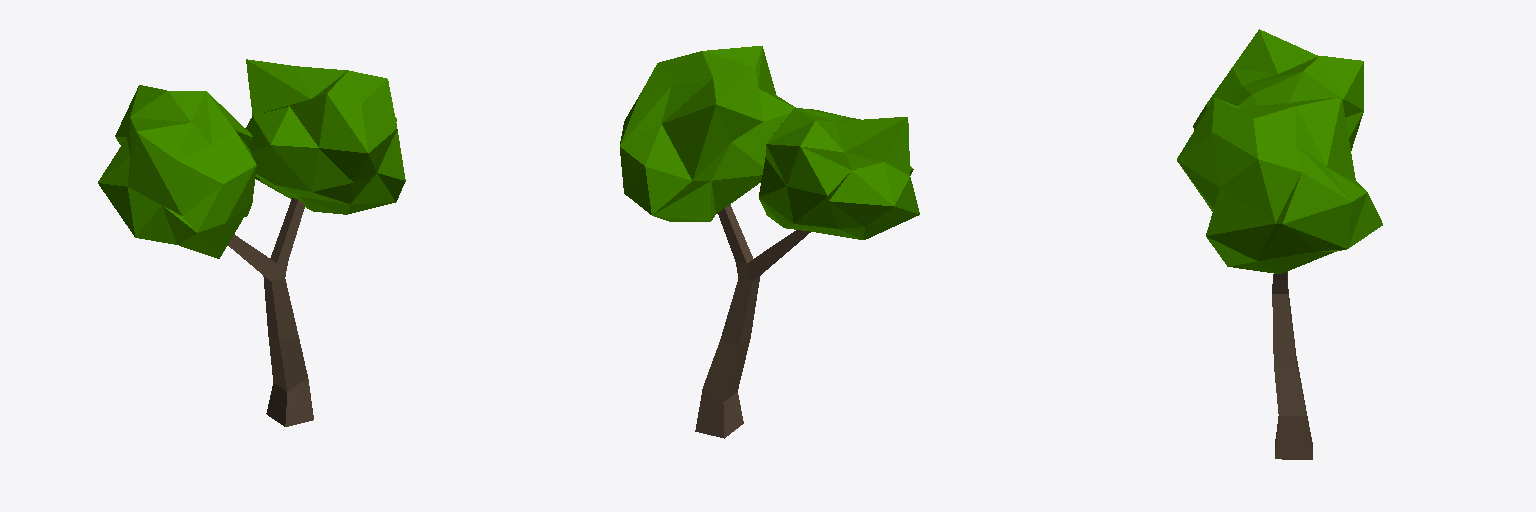
Rendered from Cartoon_low_poly_tree_1.obj.
The picture shows the model from 3 angles: view 1: azimuth 30°, elevation 25°; view 2: azimuth 150°, elevation 25°; view 3: azimuth 270°, elevation 25°; orthographic projection.
Parts seen in each view (by area): view 1: Tree_1 Mesh; view 2: Tree_1 Mesh; view 3: Tree_1 Mesh.
Part boxes in pixels (left/top/right/bottom): Tree_1 Mesh: left=98, top=59, right=405, bottom=426; Tree_1 Mesh: left=620, top=46, right=919, bottom=438; Tree_1 Mesh: left=1177, top=29, right=1382, bottom=459.
Bounding box in the file's own units: 26.62 × 31.64 × 16.77.